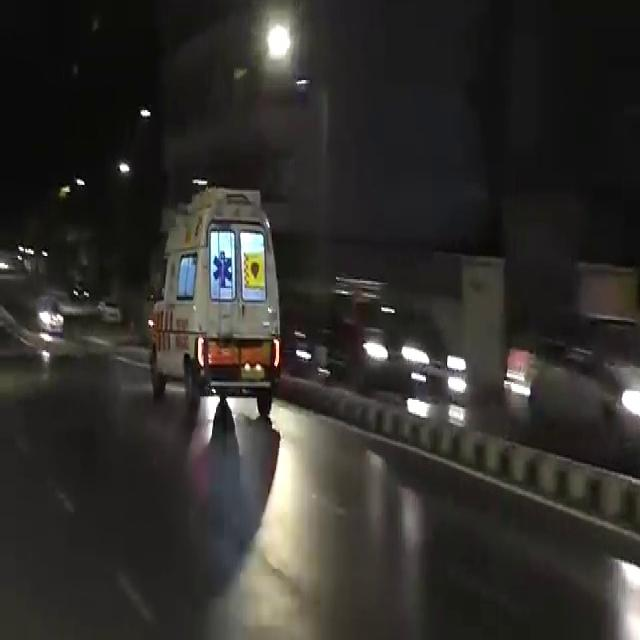ambulance: (154, 170, 292, 426)
